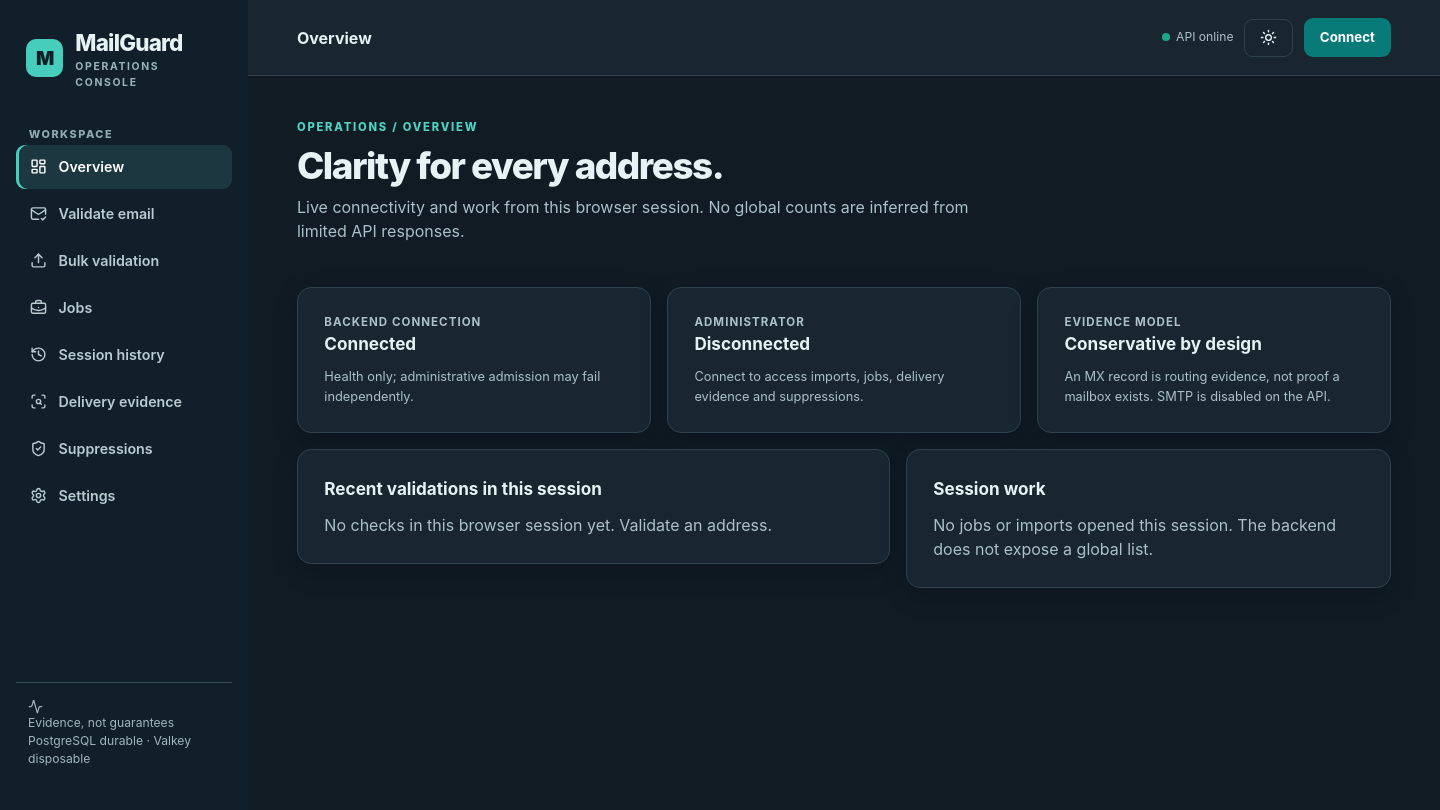
Test case: theme preference without a credential store › loads and persists normal theme preferences without storing the administrator key
Click the button named "Switch to light theme" at coordinates (1269, 38), box [1244,18,1293,56]
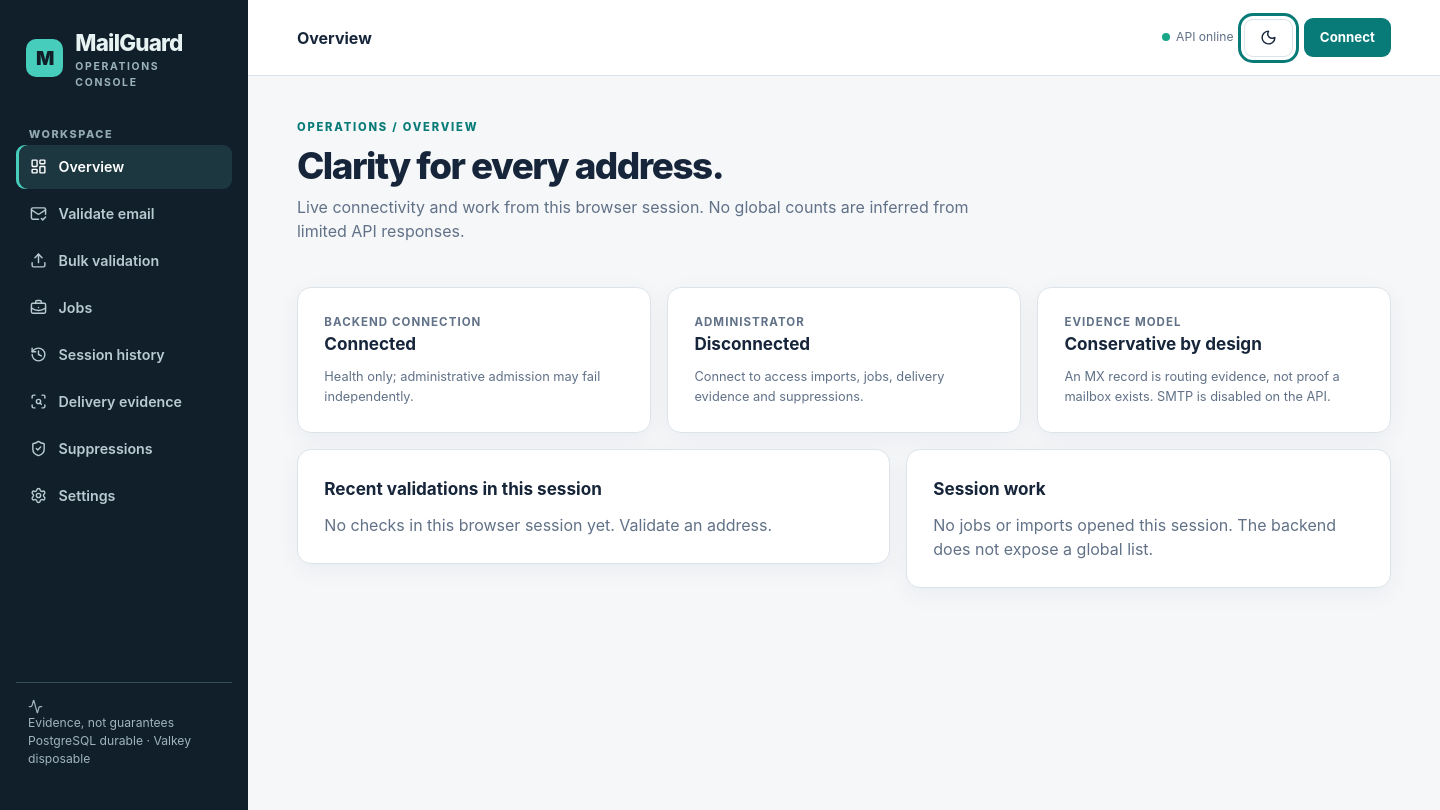
Click the button "Connect" at coordinates (1347, 38), box [1304,18,1391,57]
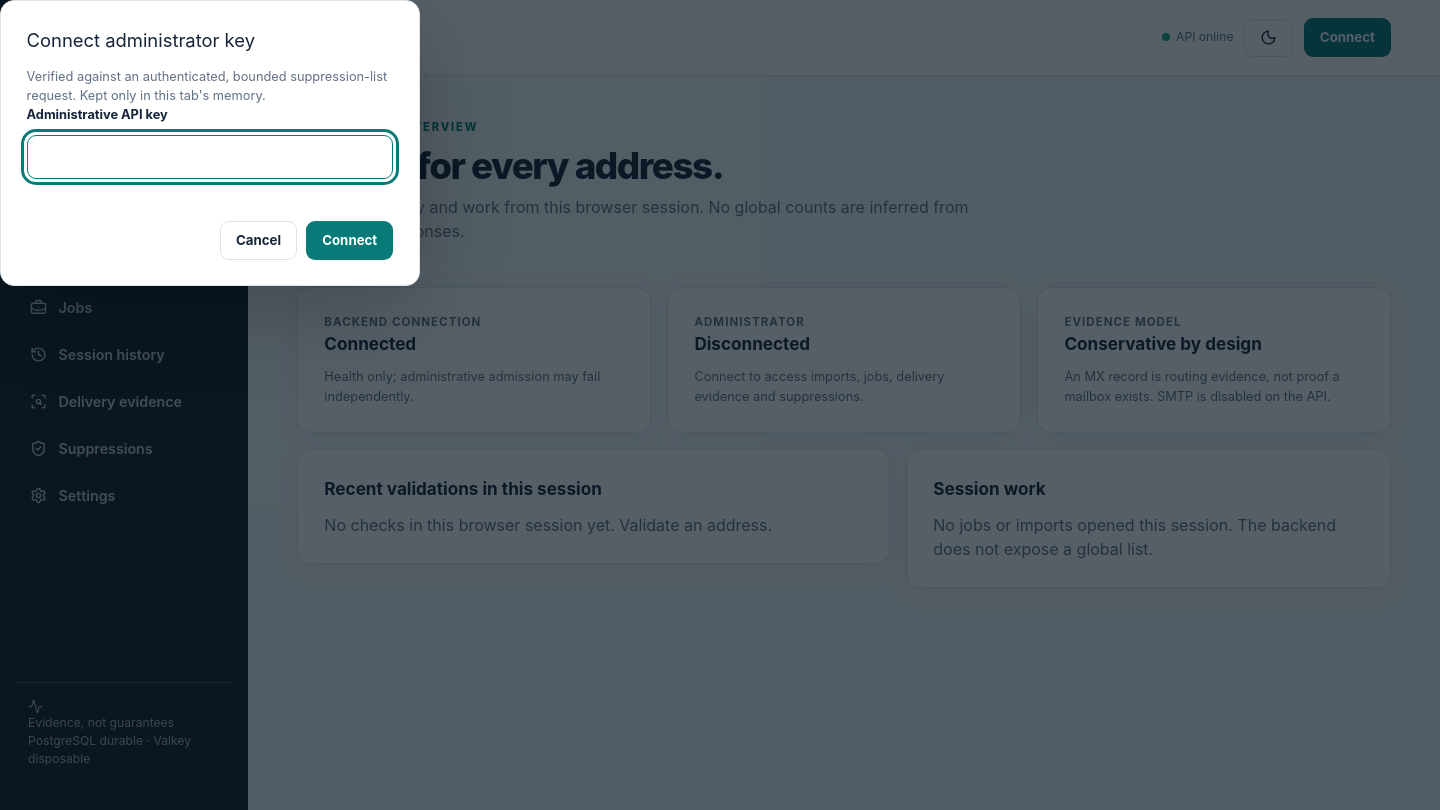
Type "temporary-key" into the password field labelled "Administrative API key" at coordinates (210, 157), box [27,135,393,179]
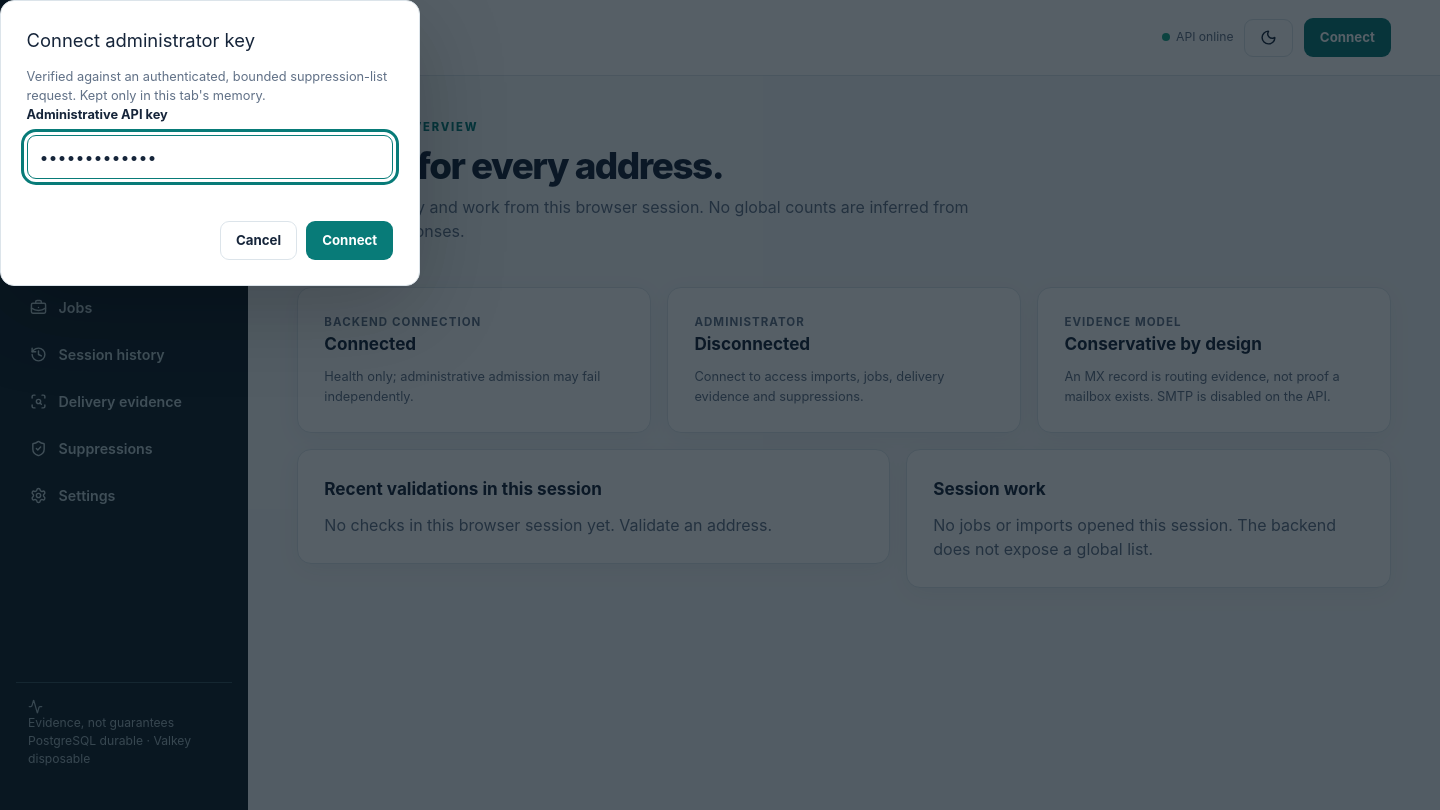
Click the button "Connect" at coordinates (350, 241), box [306,221,393,260]
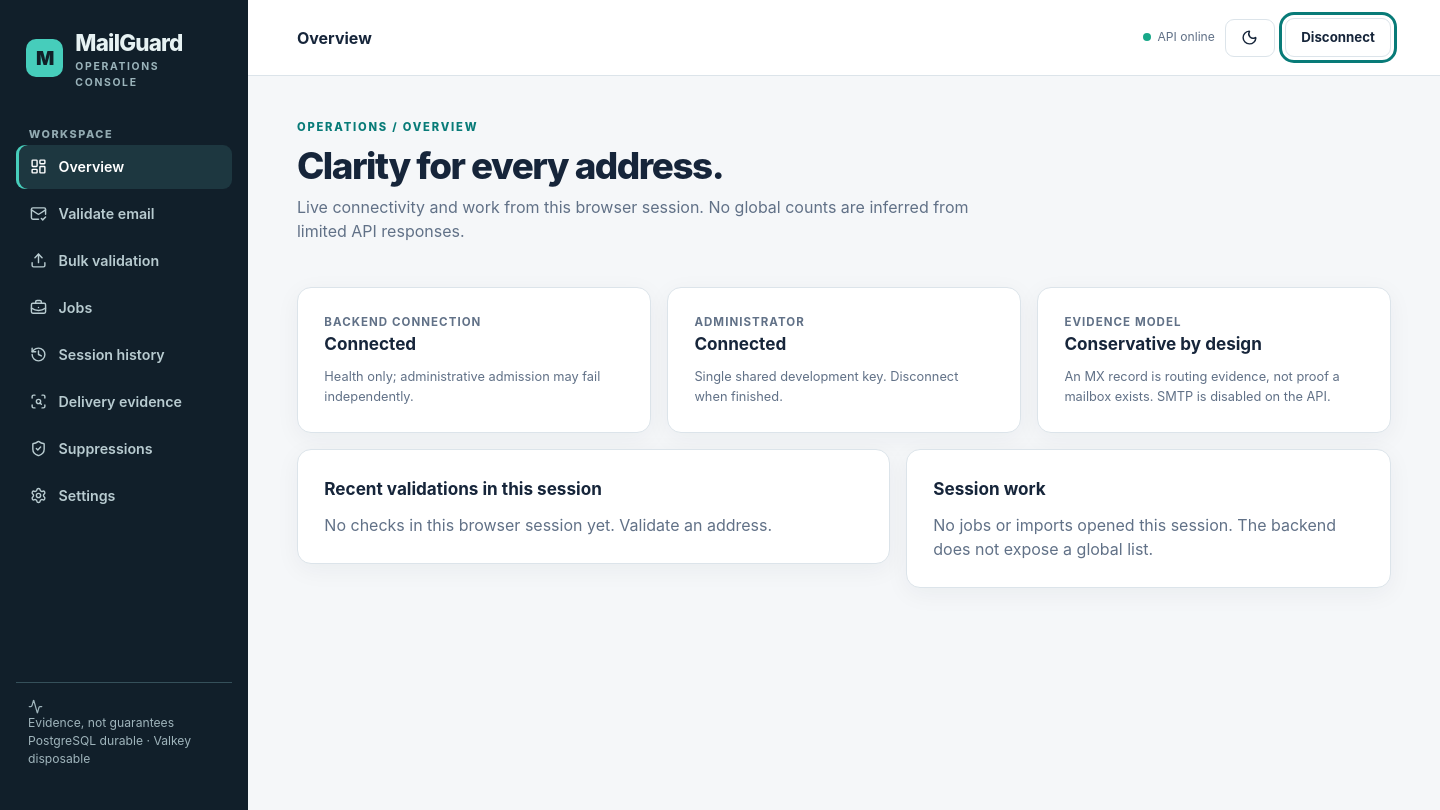
Expected: the button "Disconnect" is shown, [1285,18,1391,57]
